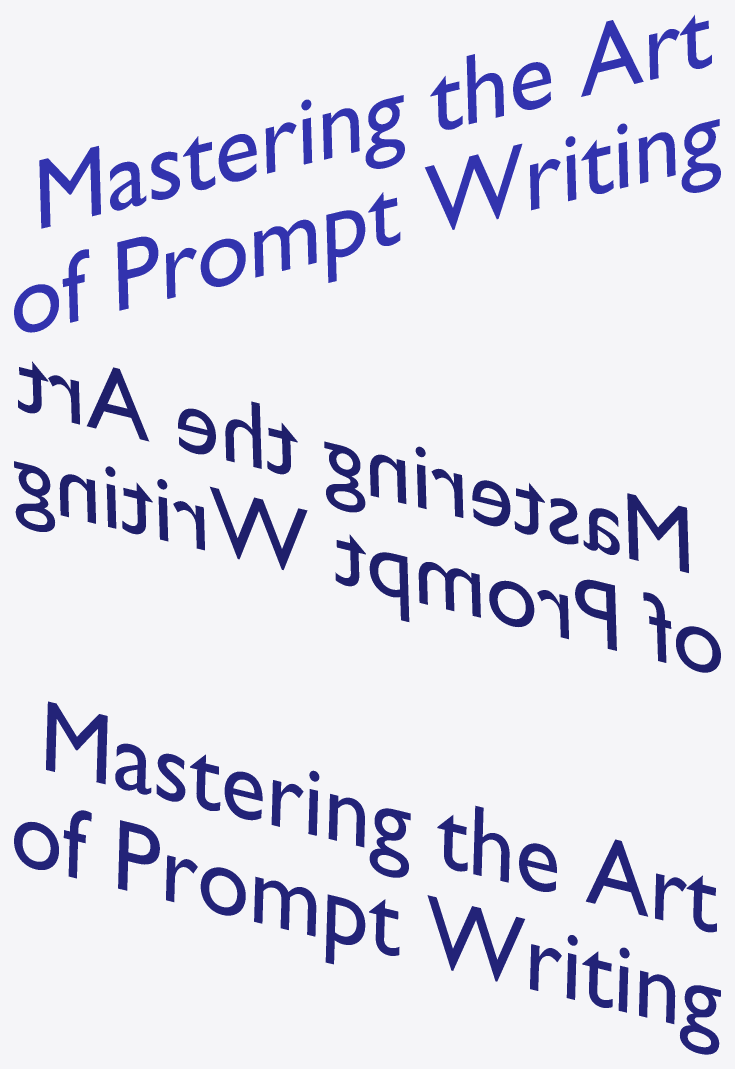
File: MasteringPromptWriting.glb
3 renders of one model, top to bottom at view 1: azimuth 30°, elevation 25°; view 2: azimuth 150°, elevation 25°; view 3: azimuth 330°, elevation 25°, orthographic.
Visible parts, largest first — view 1: Text; view 2: Text; view 3: Text.
Boxes of the visible parts, bbox=[...] form: Text: bbox=[14, 15, 720, 332]; Text: bbox=[14, 361, 720, 672]; Text: bbox=[14, 701, 720, 1054].
Bounding box in the file's own units: 7.51 × 1.91 × 0.1042.
